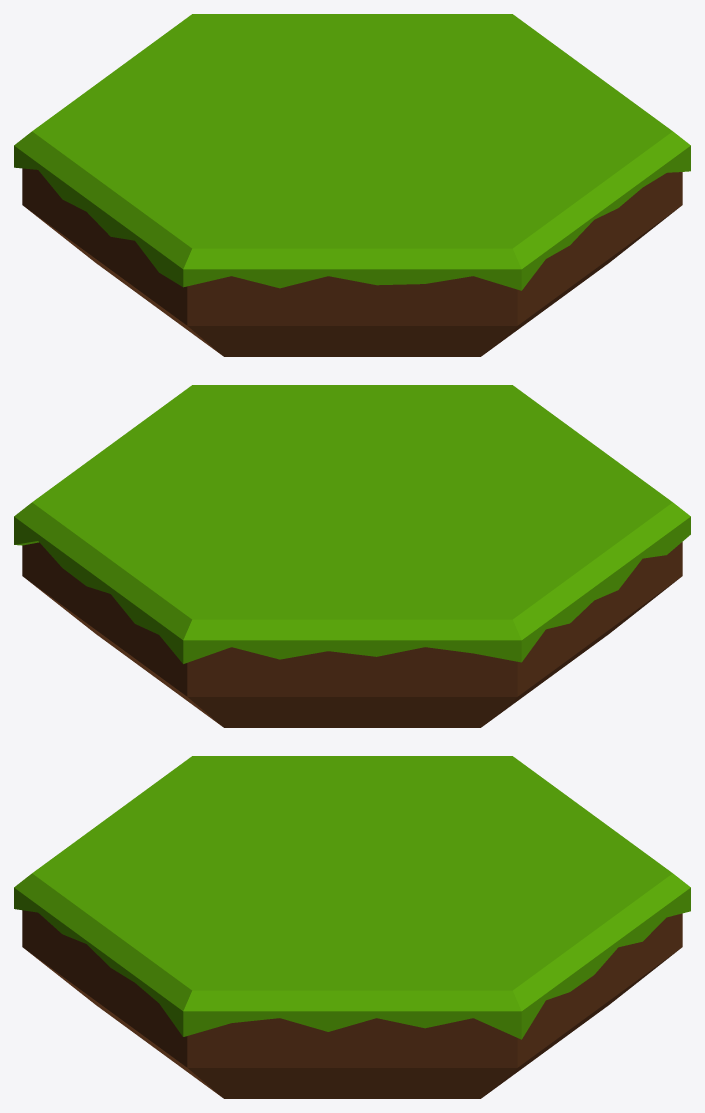
File: grass_tile.fbx
3 renders of one model, top to bottom at view 1: azimuth 30°, elevation 25°; view 2: azimuth 150°, elevation 25°; view 3: azimuth 270°, elevation 25°, orthographic.
Parts seen in each view (by area): view 1: grass_tile; view 2: grass_tile; view 3: grass_tile.
Boxes of the visible parts, box(x1,y1,x2,y2) form: grass_tile: box(14, 14, 690, 356); grass_tile: box(14, 385, 690, 727); grass_tile: box(14, 756, 690, 1098).
Bounding box in the file's own units: 778 × 193 × 898.
